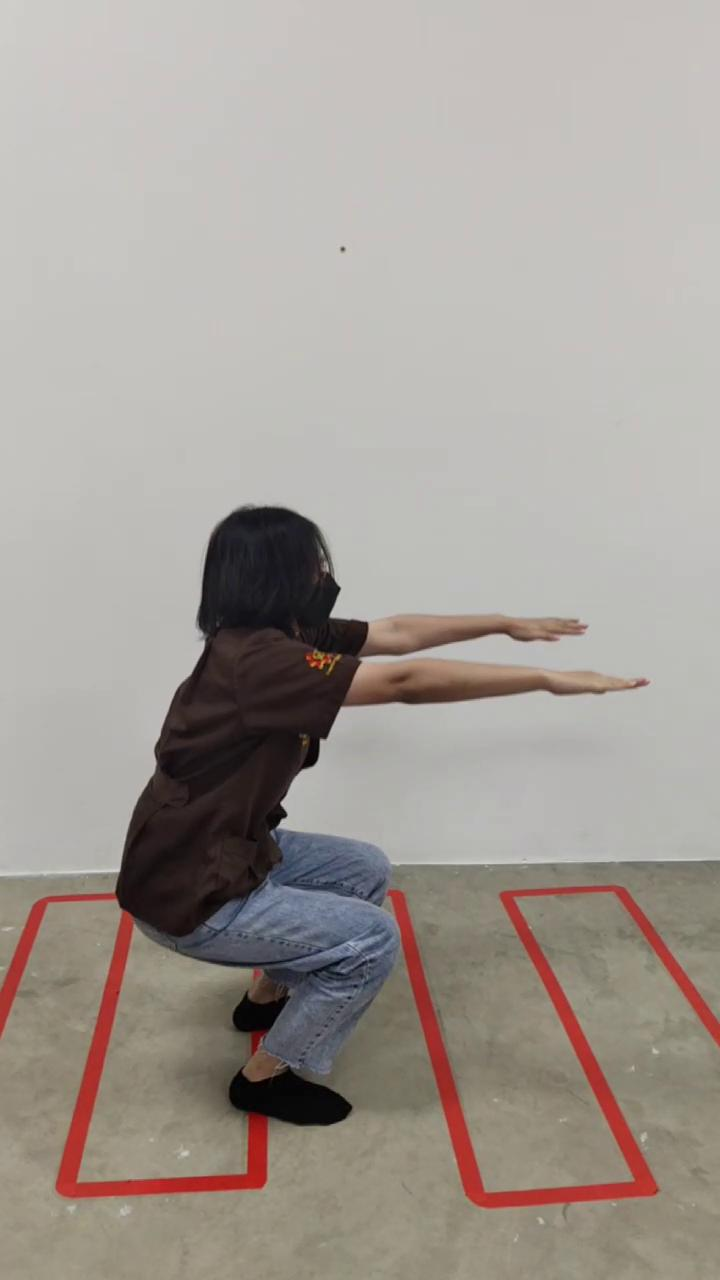squat down: (115, 505, 645, 1128)
